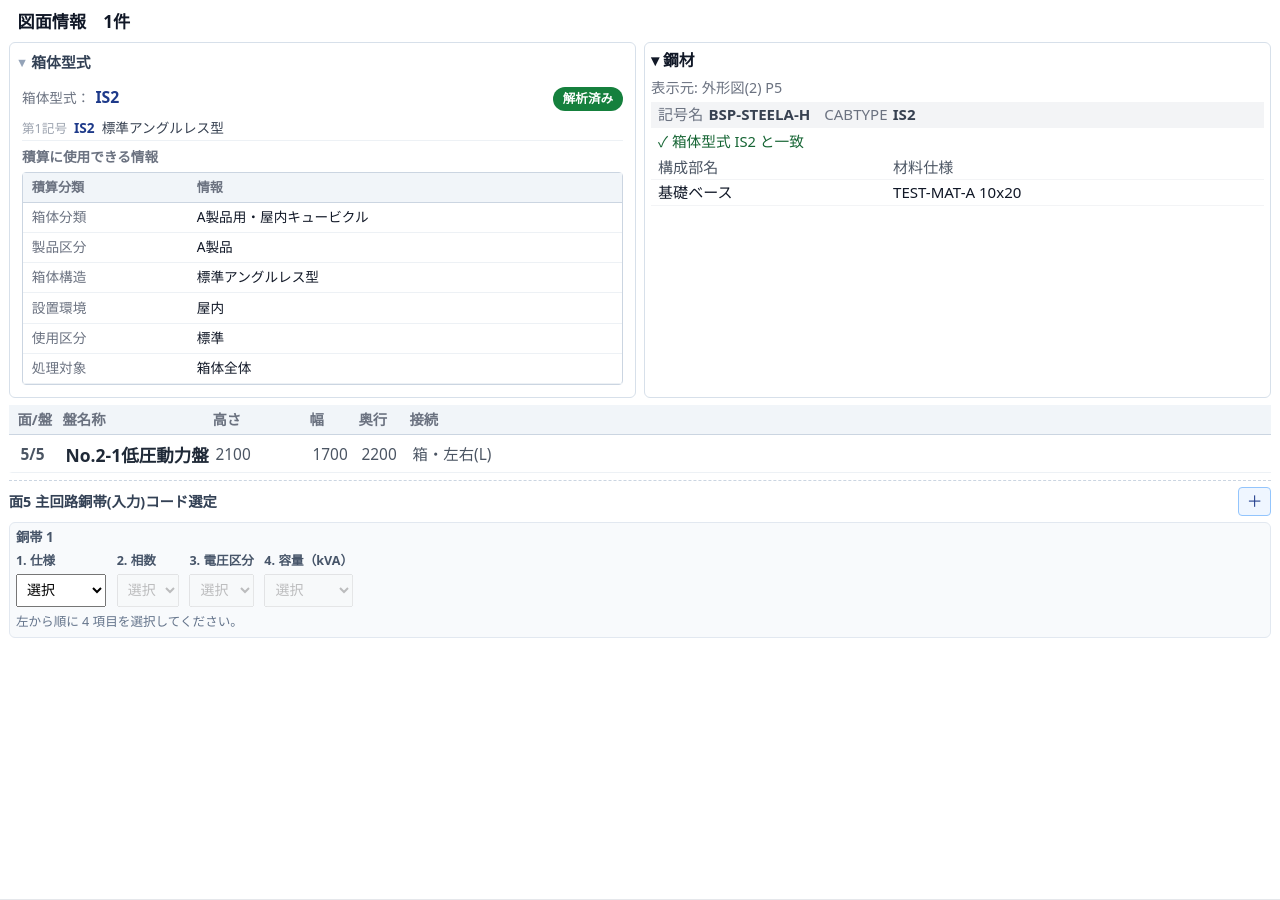
Scenario: PanelInfo: 箱体型式タブと鋼材欄 (追加機能) › renders exactly one 鋼材 section (the real SteelSection, never a placeholder) and toggles it independently of the 箱体型式 tab
The width and height of the screenshot is (1280, 900).
expect the number of elements labelled "鋼材" is 1: met, box [644,42,1271,398]
expect the text "基礎ベース" is shown: met, box [651,180,886,205]
鋼材を閉じても箱体型式は開いたまま。
Step 1. Click the button "▾ 鋼材" → [673, 61], box [651,50,695,73]
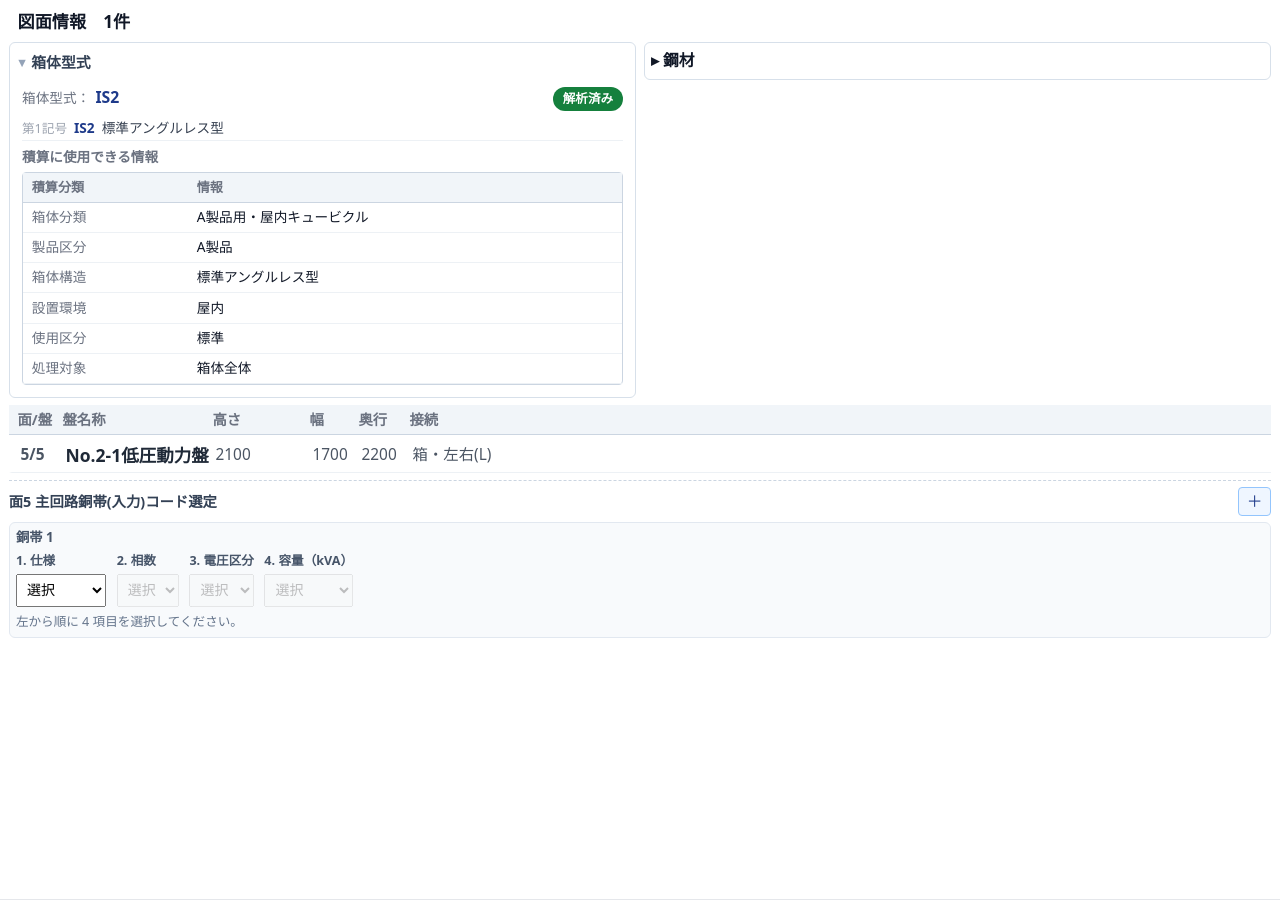
expect the button "▸ 鋼材" is collapsed: met, box [651,50,695,73]
